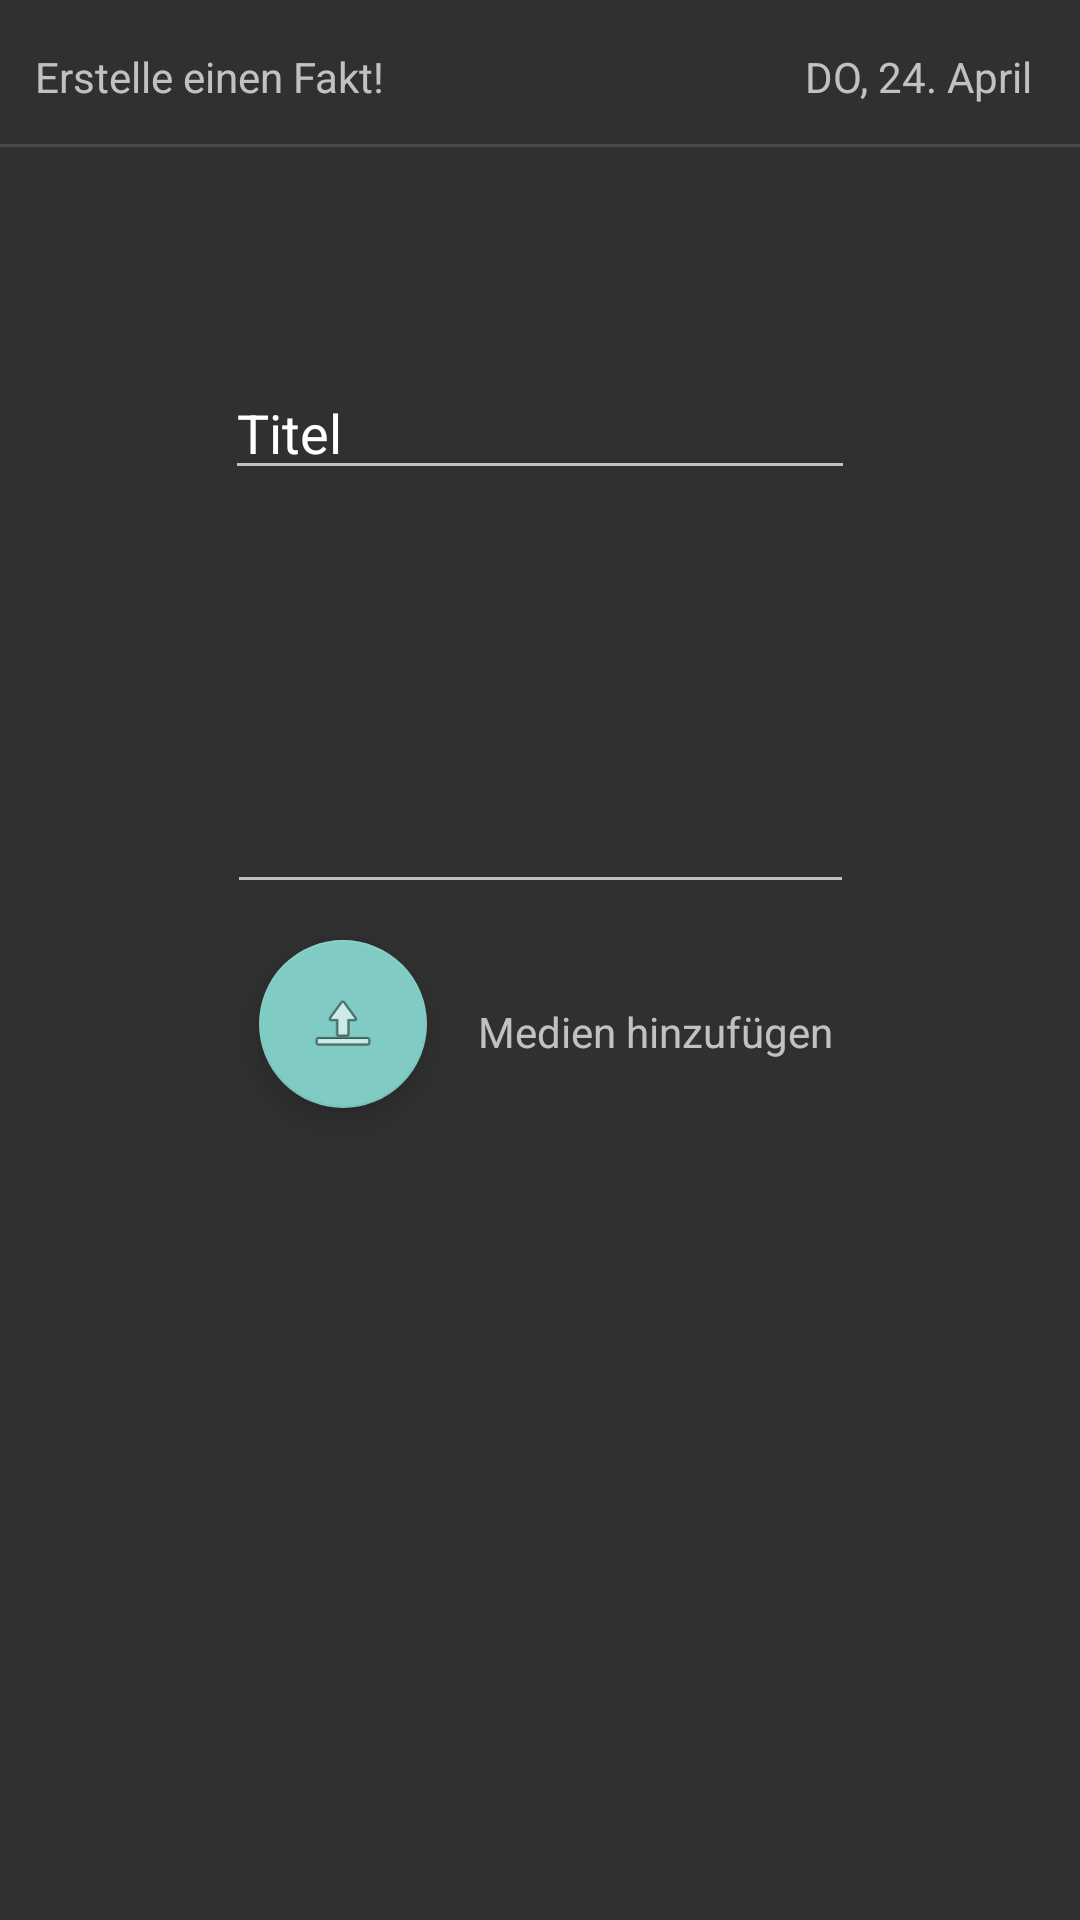

Point at icon controls on the screen. Image size 1080 x 1920, points as point (x, y).
upload: point (343, 1024)
